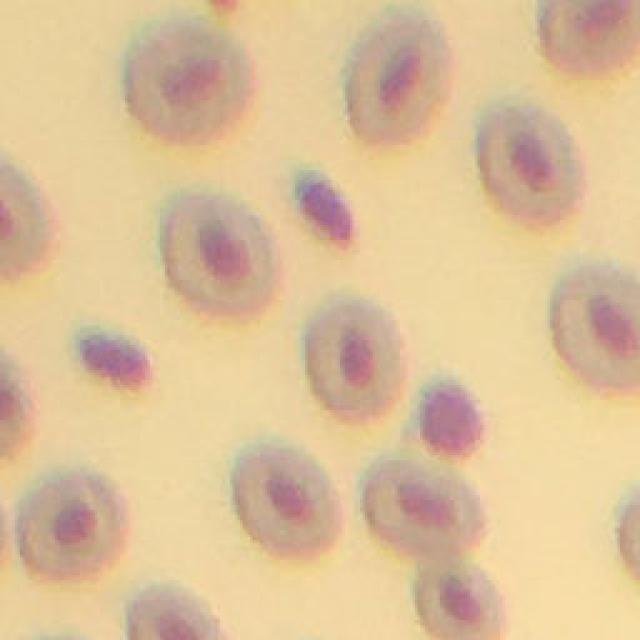RBC: (126, 19, 250, 141), (345, 11, 450, 143), (164, 196, 275, 313), (232, 442, 341, 555), (362, 460, 486, 557), (479, 106, 581, 222), (306, 299, 405, 418), (19, 471, 128, 579), (551, 268, 640, 391), (415, 564, 502, 640), (0, 152, 49, 274), (128, 591, 219, 640), (0, 350, 38, 458)
WBC: (421, 385, 482, 455), (80, 332, 150, 386), (300, 180, 352, 241)
